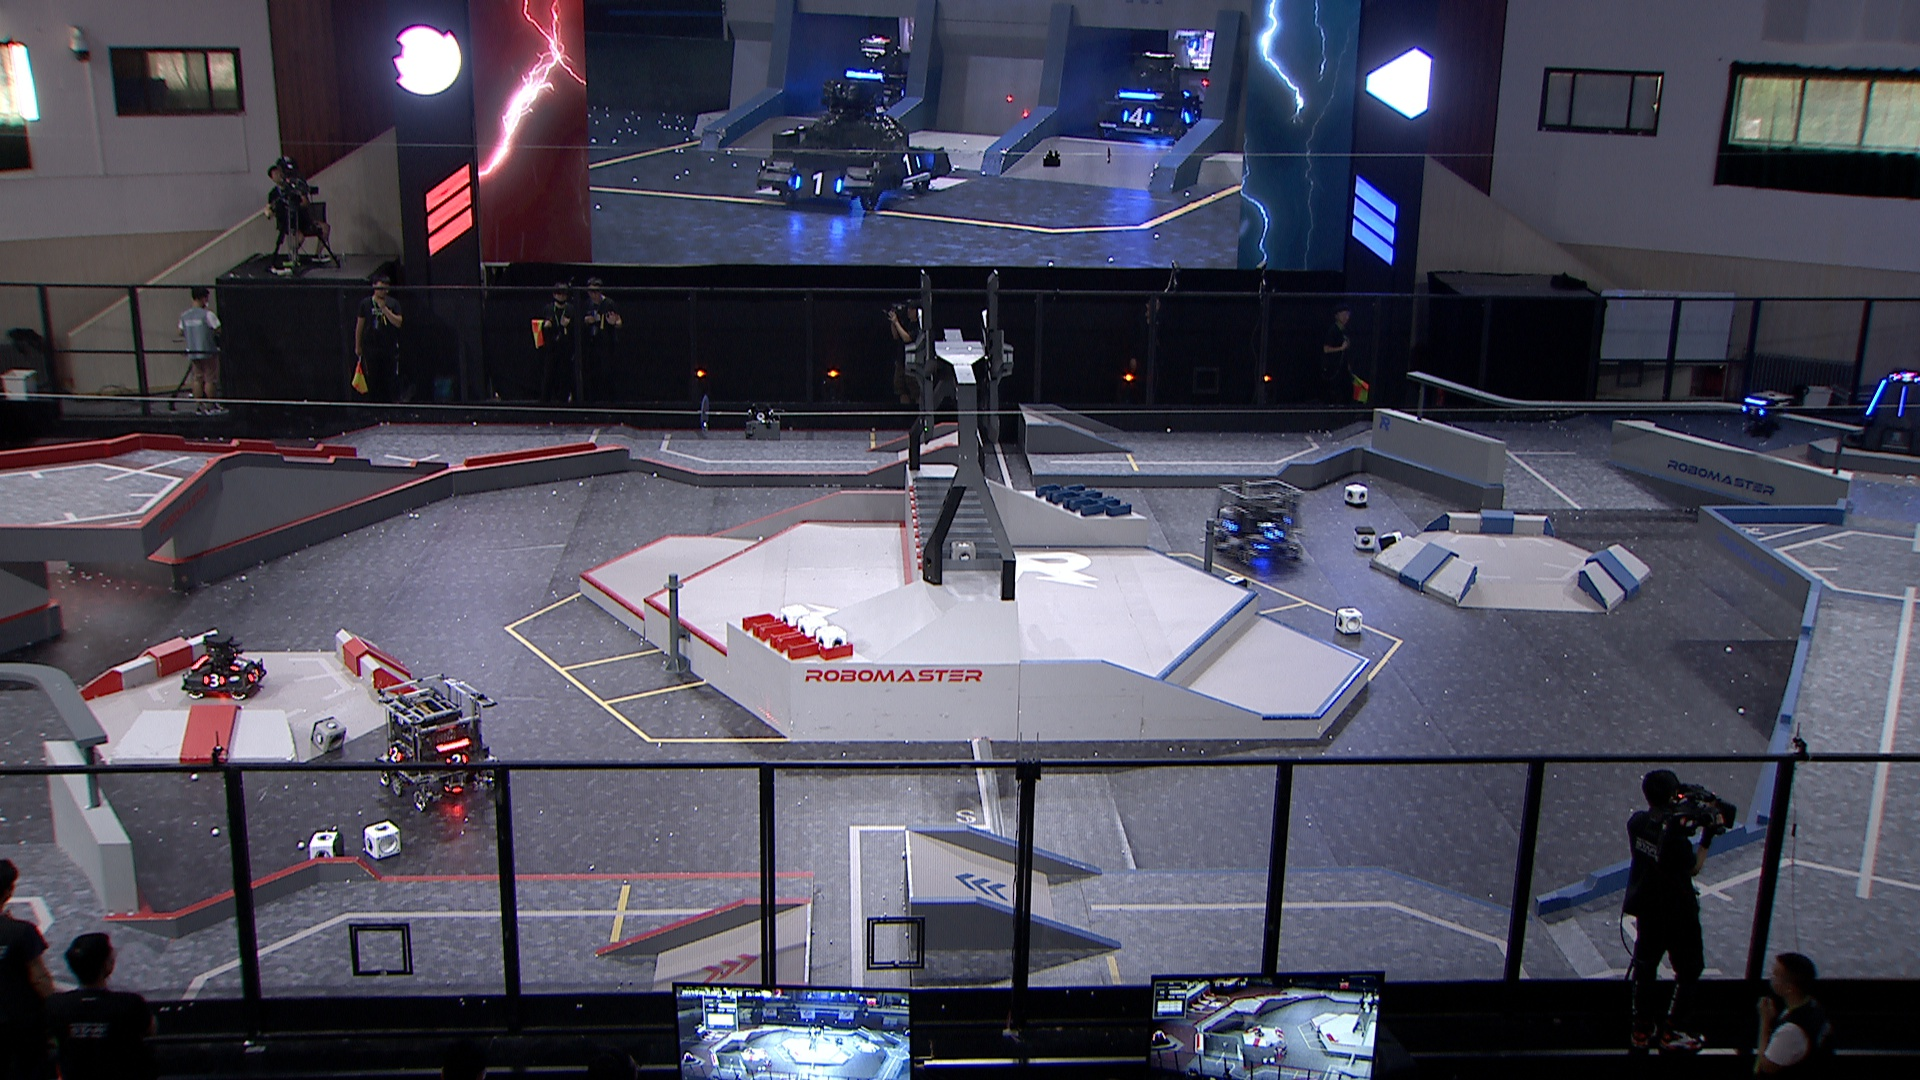armor: (1865, 378, 1888, 418), (1894, 385, 1908, 417), (443, 752, 471, 767), (200, 673, 225, 688), (1737, 404, 1766, 417), (228, 657, 248, 673), (1263, 527, 1284, 541), (386, 745, 401, 764), (1218, 518, 1238, 531), (245, 669, 262, 683)
base: (1840, 367, 1920, 458)
car: (371, 669, 506, 808), (1207, 475, 1313, 568), (178, 632, 269, 699)
ignore: (752, 69, 955, 208), (1096, 49, 1204, 142), (827, 36, 920, 109), (1890, 372, 1920, 385)
watcher: (1731, 386, 1793, 443)
